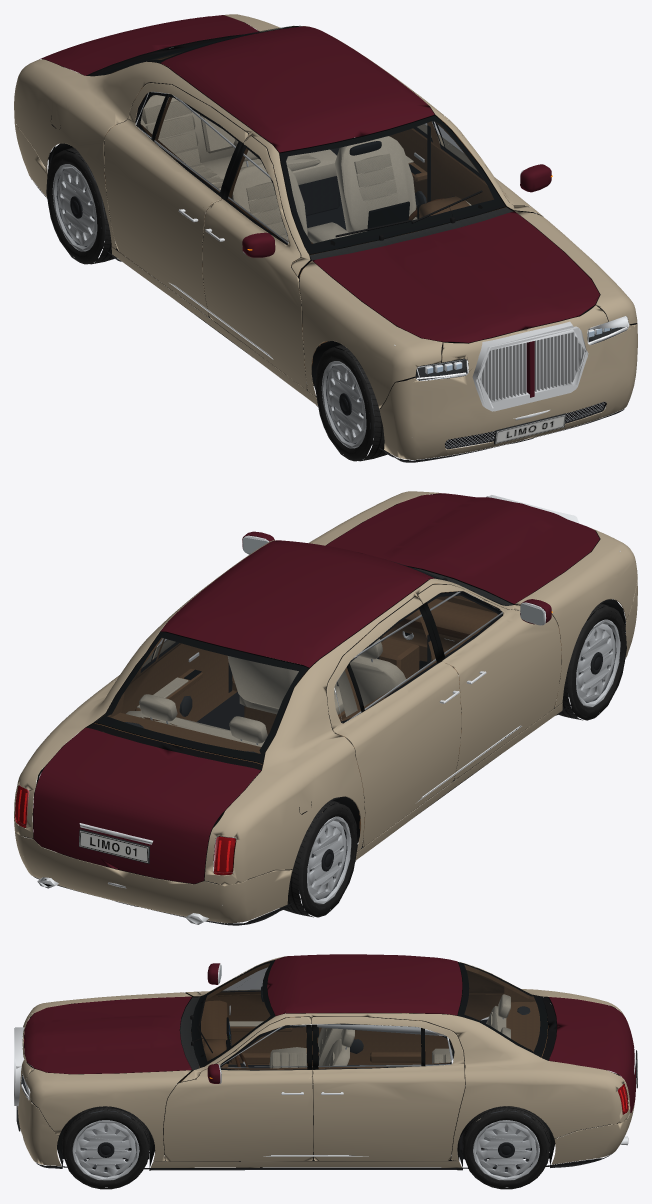
The model's file is luxury-limousine.glb.
3 views of the same model, one above another, from view 1: azimuth 30°, elevation 25°; view 2: azimuth 150°, elevation 25°; view 3: azimuth 270°, elevation 25° (orthographic). The views are drawn at different scales.
Parts seen in each view (by area): view 1: Body, Wheel_FR, Wheel_RR; view 2: Body, Wheel_RR, Wheel_FR; view 3: Body, Wheel_RL, Wheel_FL.
Part boxes in pixels (x1,y1,x2,y2): Body: [14, 14, 637, 462]; Wheel_FR: [315, 344, 390, 461]; Wheel_RR: [46, 147, 116, 264]; Body: [14, 491, 637, 925]; Wheel_RR: [280, 800, 357, 917]; Wheel_FR: [559, 603, 626, 720]; Body: [14, 954, 637, 1170]; Wheel_RL: [462, 1106, 550, 1189]; Wheel_FL: [61, 1106, 150, 1189].
Size of the model in its own units: 2.3 by 1.64 by 5.48.
59 materials, 13 textured.
